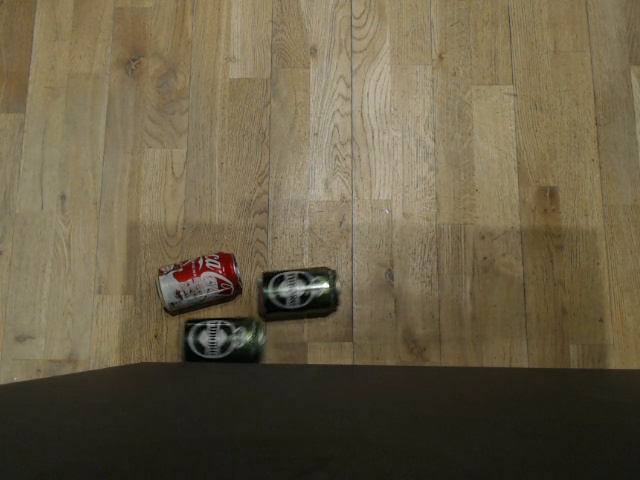beer: (252, 260, 344, 321), (178, 313, 267, 365)
cola: (150, 246, 242, 307)
